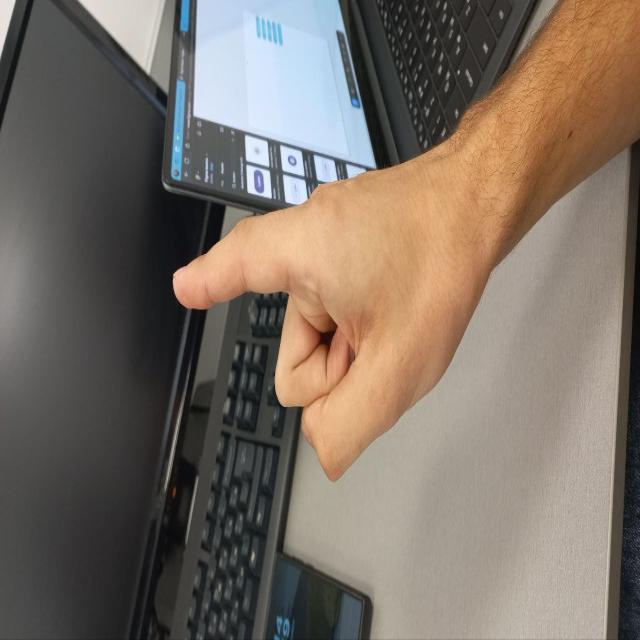z: (163, 204, 473, 520)
